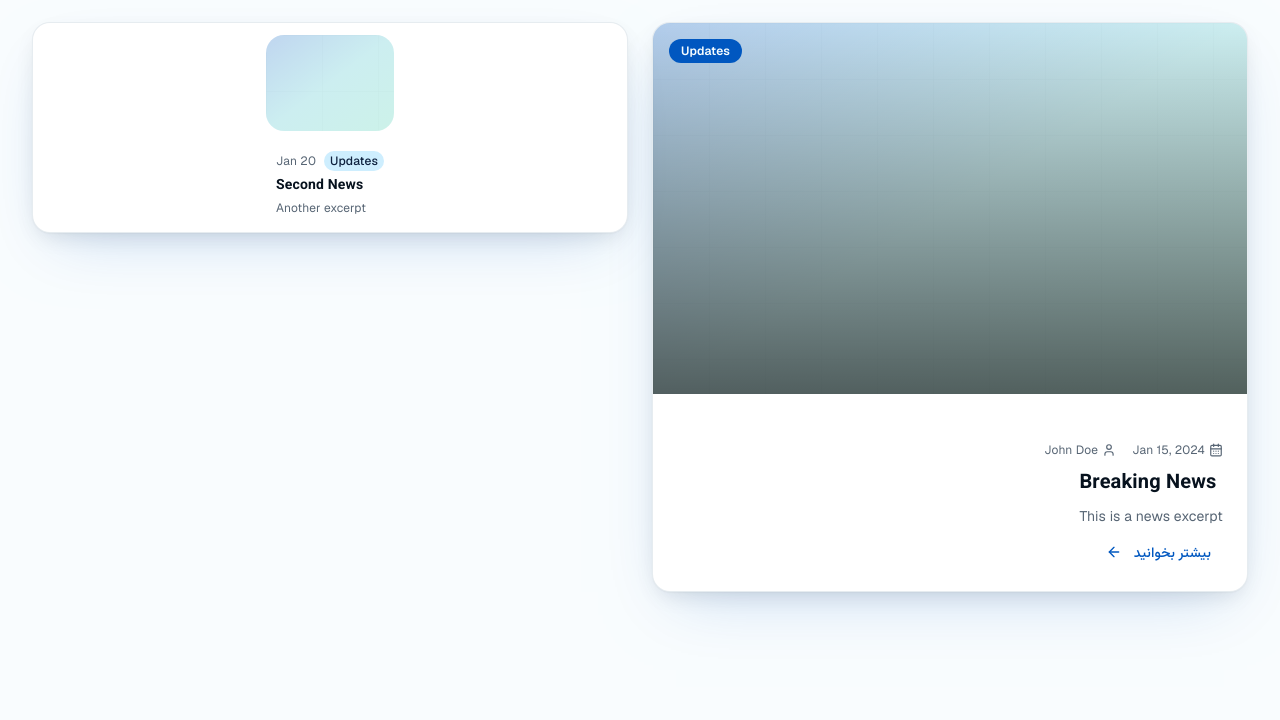
Test: Frontend Components - Zero Hardcoded Text Verification › News Component - Requirements 4.1, 4.2 › uses translation key for reading time display
(page scrolled)
Click on a news item to open the modal
Click the heading "Breaking News" at x=1151, y=484, box x1=1079 y1=470 x2=1223 y2=498
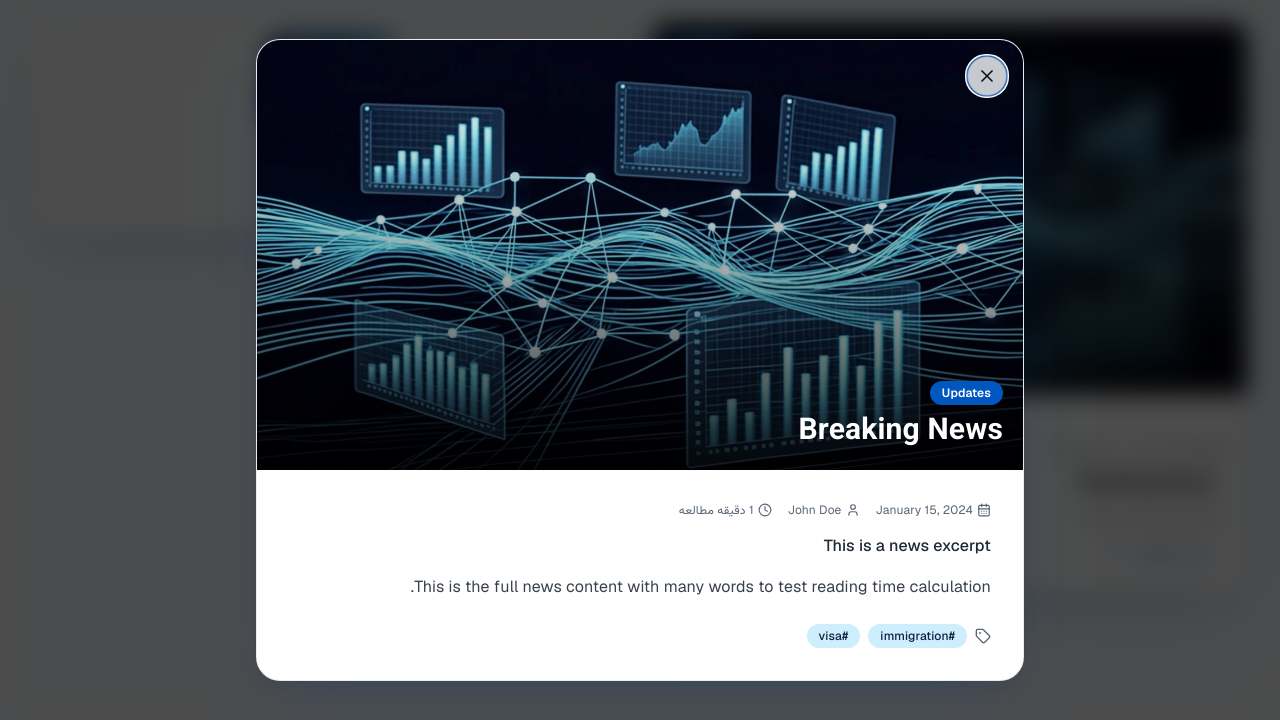
Expected: the text "1 دقیقه مطالعه" is shown, x1=679 y1=502 x2=772 y2=518
